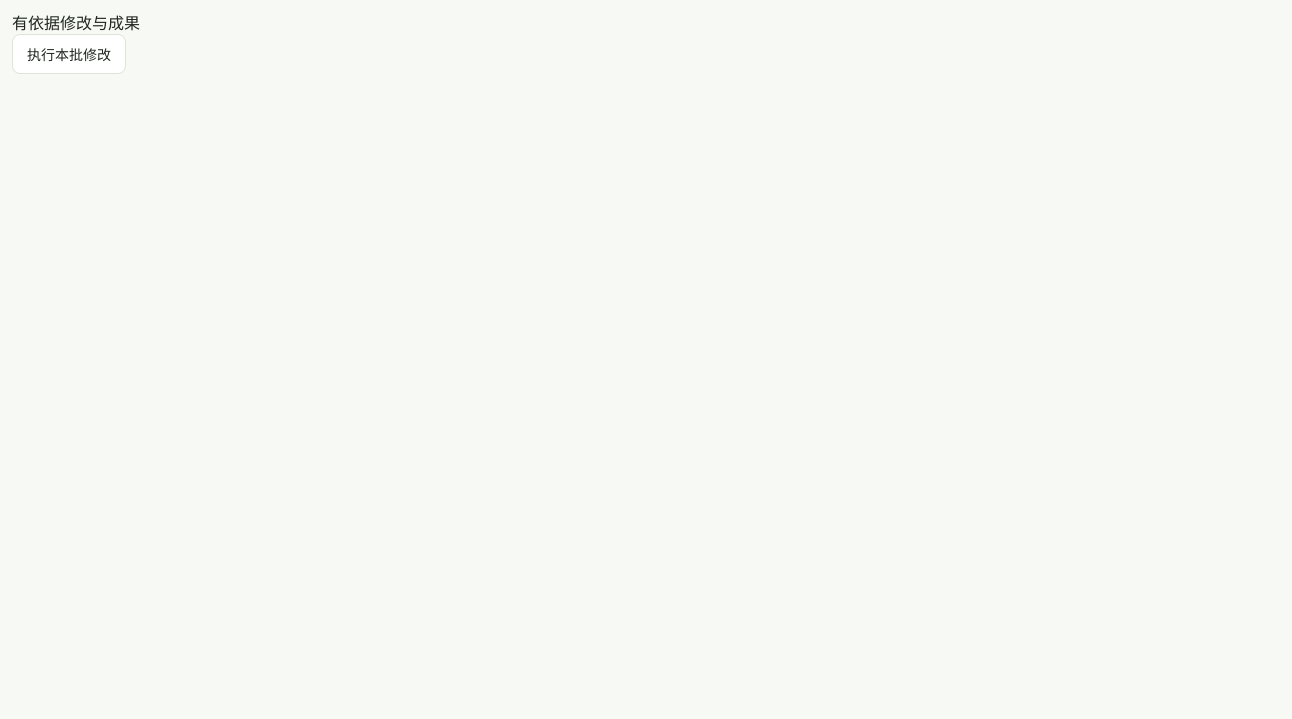
Test case: preserves unsaved concrete edits when refreshing saved outputs
Later steps or results of the test are not shown.
What coordinates should you click on to do the following:
click the button "执行本批修改"
I would click on:
 (69, 54)
Its box is [12,34,126,74].
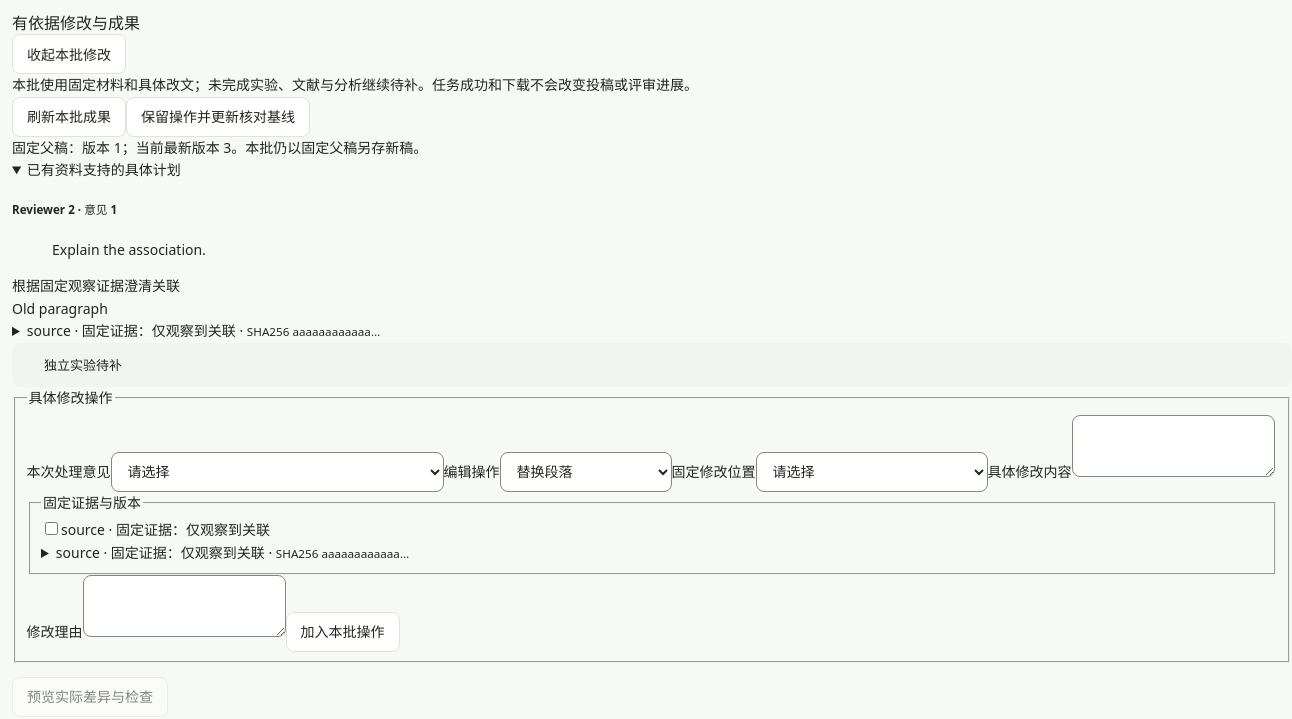
Expected: the text "根据固定观察证据澄清关联" is shown, [12,276,180,295]
